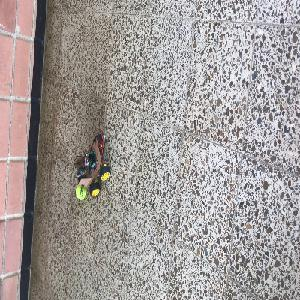Ball: (75, 186, 84, 199)
Robot: (74, 134, 110, 196)
